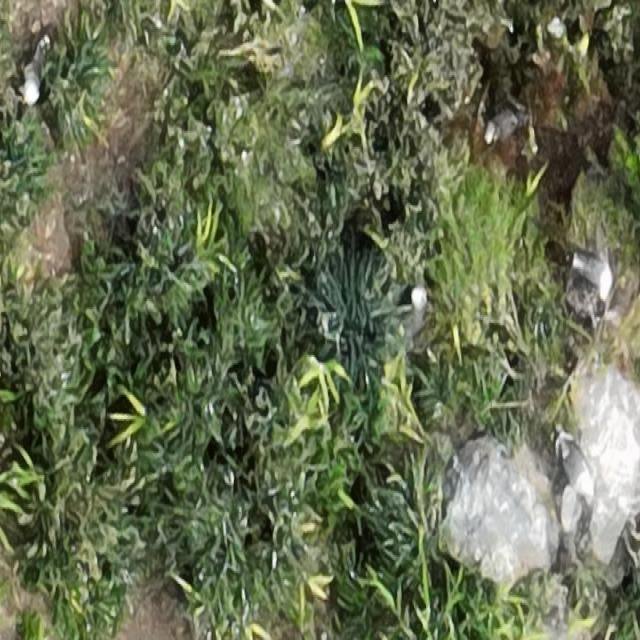umineko: (562, 431, 594, 496), (22, 36, 50, 104), (576, 250, 614, 292), (485, 110, 522, 142), (403, 286, 424, 340)
